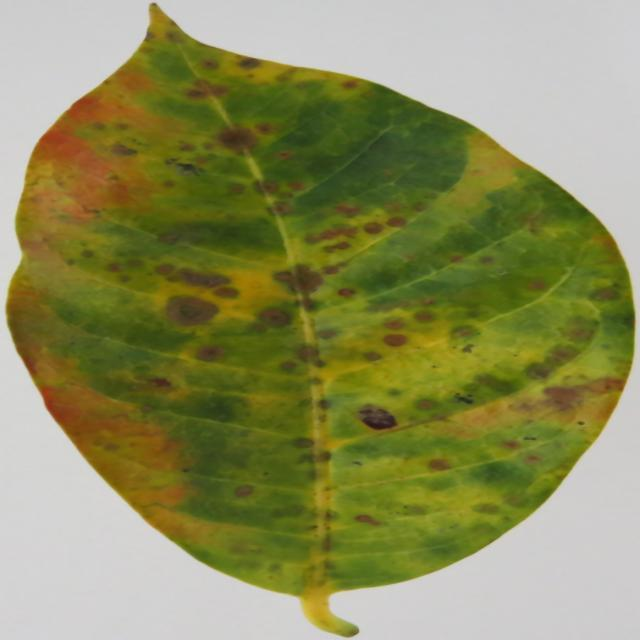DeficienciaNutricional-Fosforo: (9, 6, 632, 633)
